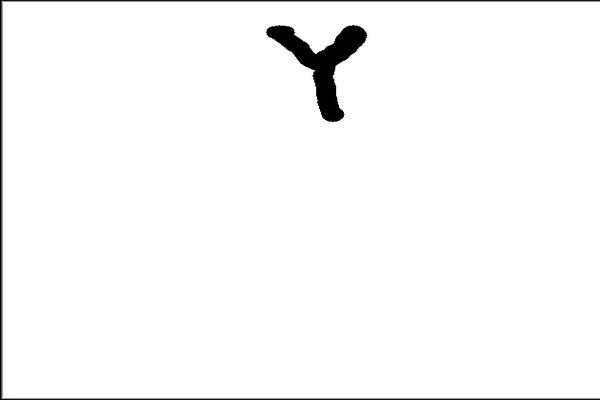Y: (253, 13, 390, 127)
